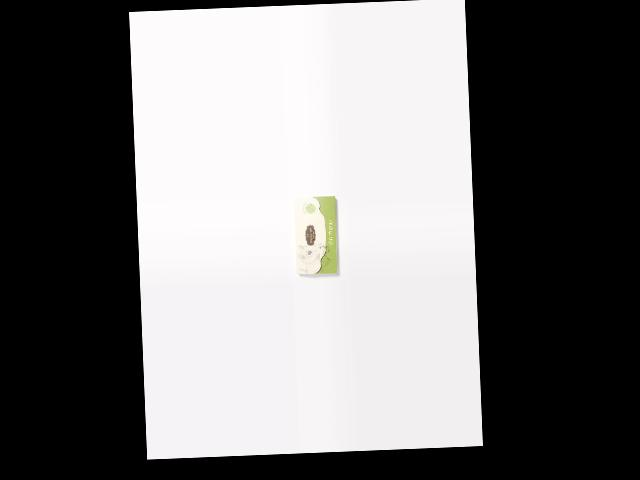chocolate: (292, 194, 339, 276)
